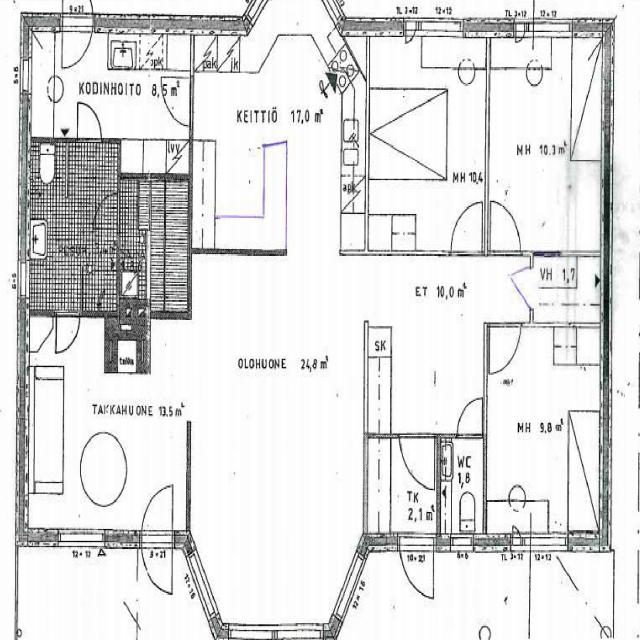door: (400, 531, 433, 603), (400, 434, 434, 494), (142, 531, 172, 598), (62, 17, 92, 83), (142, 484, 172, 550), (488, 322, 520, 376), (451, 202, 482, 255), (156, 78, 190, 125), (490, 202, 520, 255), (503, 268, 534, 310), (77, 99, 102, 144), (62, 0, 92, 36), (457, 396, 482, 439), (56, 312, 79, 356), (94, 193, 120, 229)
